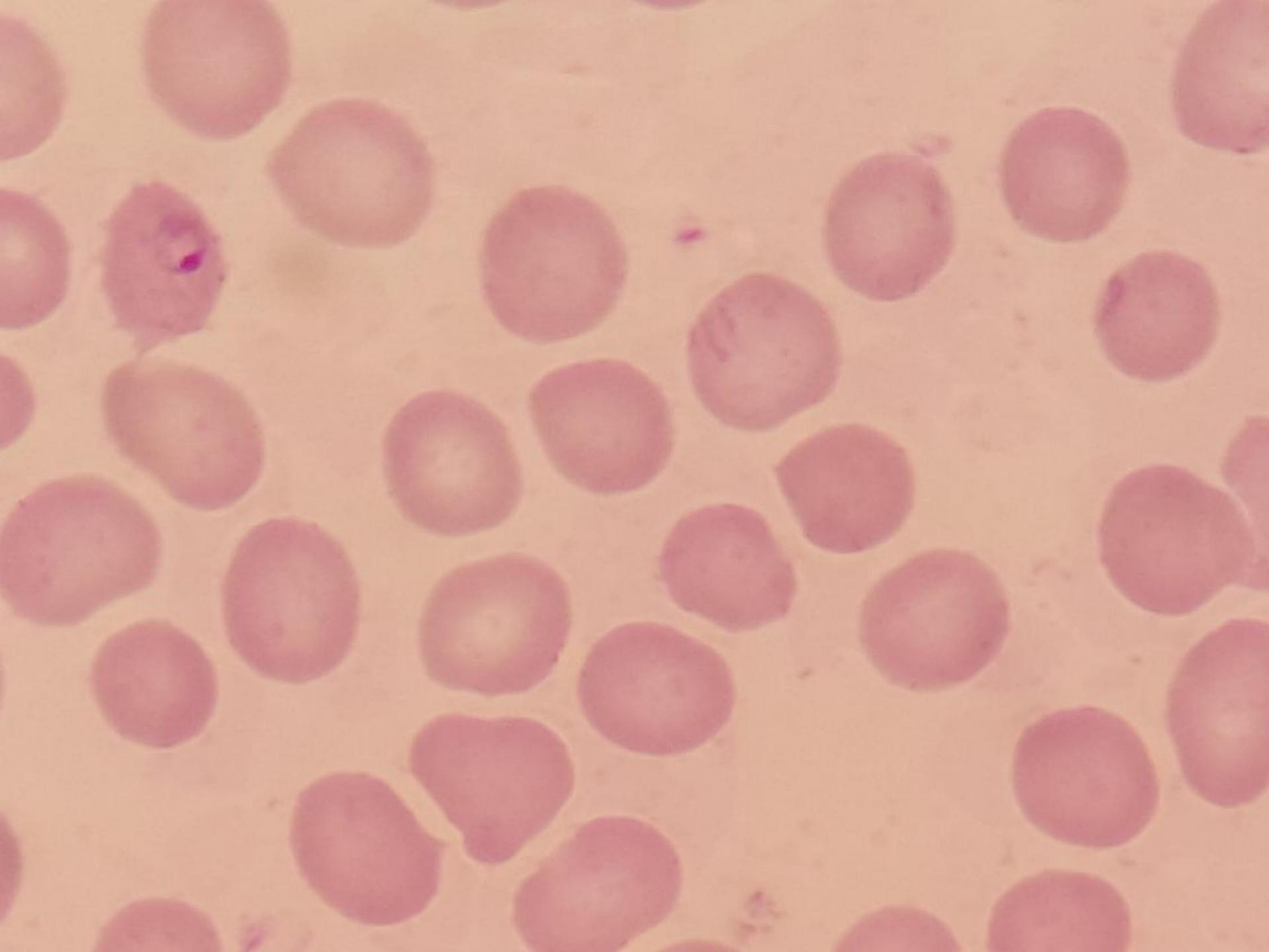Infected: (99, 170, 223, 347)
Uninfected: (97, 353, 261, 519), (267, 95, 432, 254), (681, 272, 837, 435), (214, 518, 364, 682), (408, 705, 565, 861), (0, 470, 157, 624), (282, 769, 436, 921), (476, 184, 618, 344), (1102, 461, 1240, 623), (419, 551, 567, 701), (375, 386, 527, 532), (511, 813, 670, 952), (577, 615, 734, 755), (1161, 604, 1269, 807), (855, 545, 1000, 691), (1005, 703, 1151, 846), (824, 150, 955, 309), (139, 0, 282, 138), (994, 106, 1129, 242), (84, 615, 214, 754), (659, 501, 795, 633), (535, 362, 667, 495), (774, 421, 909, 548), (1102, 241, 1212, 383), (1176, 3, 1269, 163), (980, 862, 1119, 952)
